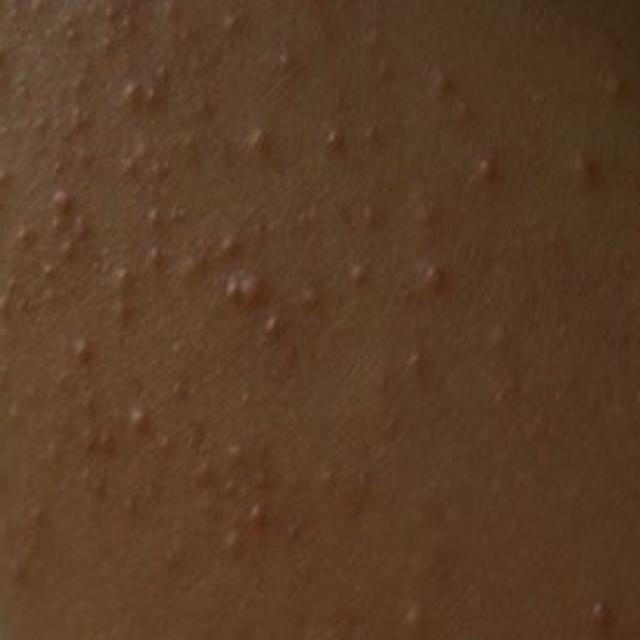keratosis pilaris: (1, 0, 494, 566)
